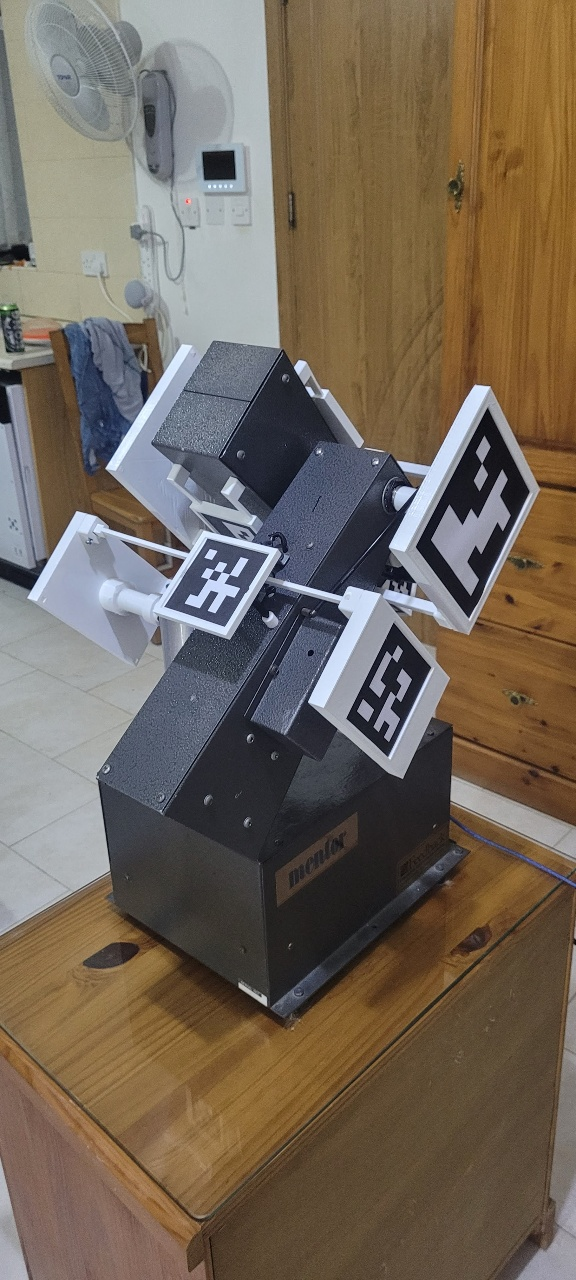Robot: (22, 338, 545, 863)
